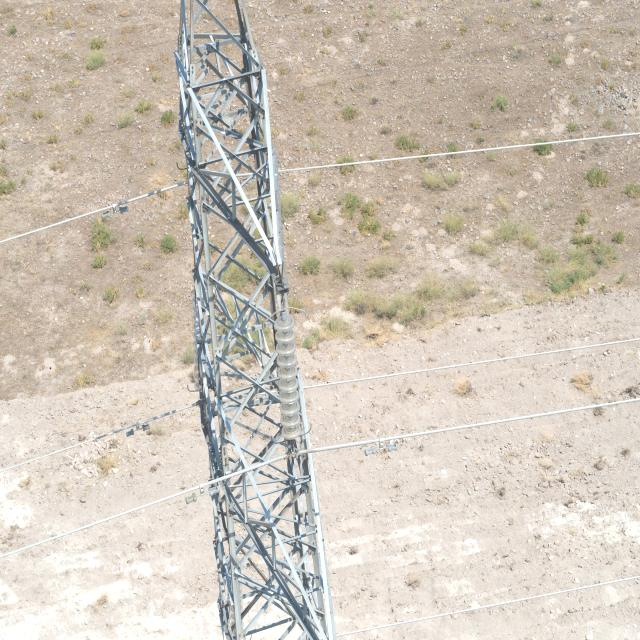voltage_line: (170, 8, 346, 640)
